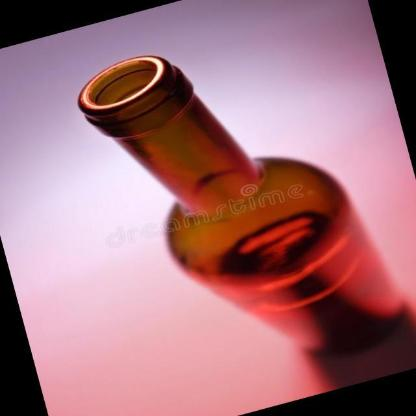Glass Bottle: (76, 57, 404, 358)
